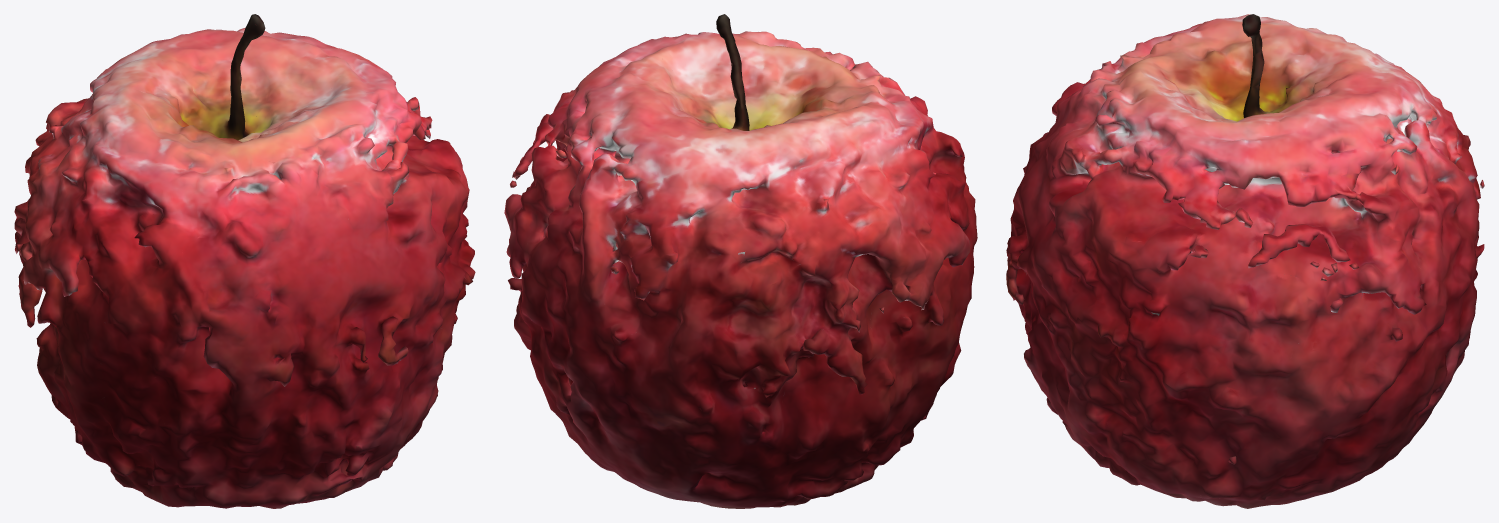
The model's file is apple.obj.
3 views of the same model, side by side, from view 1: azimuth 30°, elevation 25°; view 2: azimuth 150°, elevation 25°; view 3: azimuth 270°, elevation 25° (orthographic).
Parts seen in each view (by area): view 1: mesh.004; view 2: mesh.004; view 3: mesh.004.
Boxes of the visible parts, x1,y1,x2,y2 form: mesh.004: (14,14,475,508); mesh.004: (504,14,977,508); mesh.004: (1006,14,1484,508).
Bounding box in the file's own units: 0.0834 × 0.0902 × 0.0855.
Materials: 1 (1 with a texture image).
